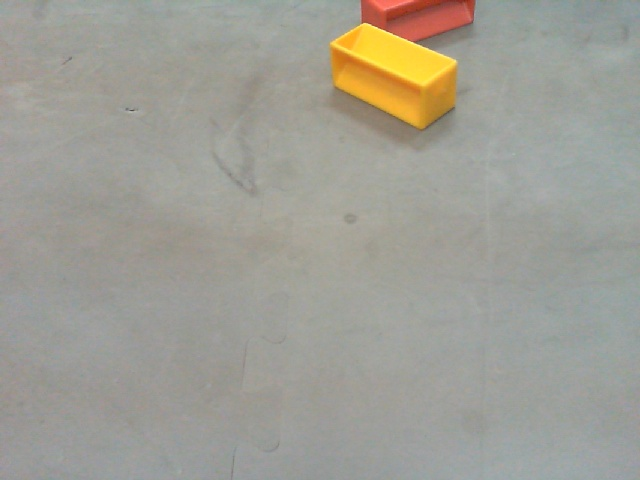RedSample: (360, 1, 473, 45)
YellowSample: (324, 24, 459, 132)
